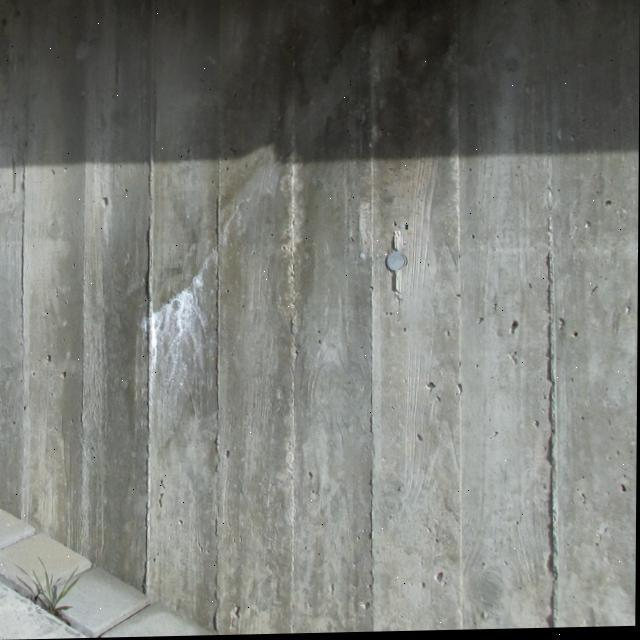D01: (146, 270, 203, 405)
